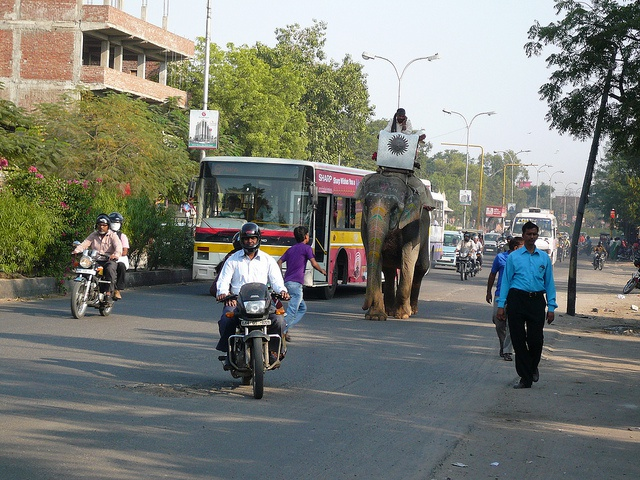non-vehicle: (220, 283, 292, 397), (69, 237, 124, 319), (453, 250, 473, 281), (591, 251, 605, 270), (471, 253, 482, 277), (578, 243, 593, 255)
